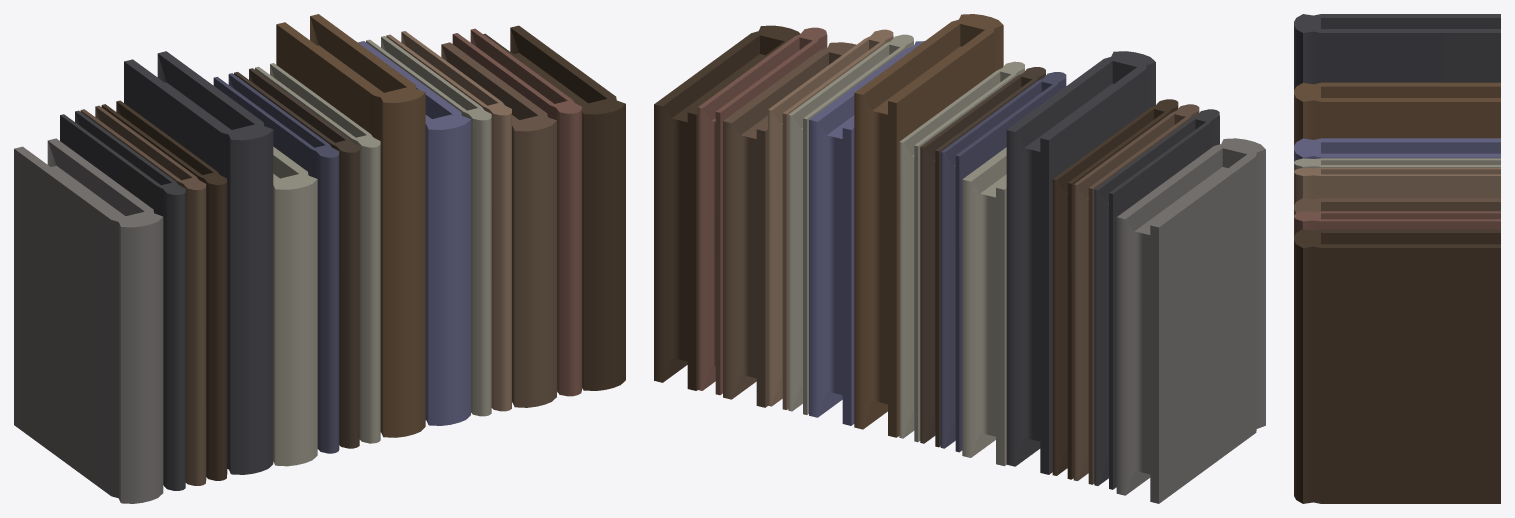
File: colored book3 second set bedroom.fbx
3 views of the same model, side by side, from view 1: azimuth 30°, elevation 25°; view 2: azimuth 150°, elevation 25°; view 3: azimuth 270°, elevation 25° (orthographic). The views are drawn at different scales.
Parts seen in each view (by area): view 1: pCube16, pCube7, pCube2, pCube12, pCube1, pCube10, pCube6, pCube14, pCube11, pCube5, pCube15, pCube3 (+4 smaller); view 2: pCube16, pCube7, pCube2, pCube12, pCube10, pCube1, pCube6, pCube14, pCube11, pCube5, pCube15, pCube3 (+4 smaller); view 3: pCube12, pCube7, pCube2, pCube9, pCube1, pCube11, pCube10, pCube8.
Boxes of the visible parts, box(x1,y1,x2,y2) form: pCube16: box(14, 138, 163, 503); pCube7: box(124, 51, 273, 474); pCube2: box(276, 14, 425, 437); pCube12: box(483, 25, 625, 390); pCube1: box(358, 41, 470, 425); pCube10: box(441, 42, 556, 407); pCube6: box(273, 146, 317, 466); pCube14: box(60, 110, 185, 490); pCube11: box(452, 28, 582, 396); pCube5: box(213, 73, 339, 453); pCube15: box(101, 100, 227, 480); pCube3: box(255, 63, 380, 443); pCube16: box(1116, 138, 1265, 503); pCube7: box(1006, 51, 1155, 474); pCube2: box(854, 14, 1003, 437); pCube12: box(654, 25, 800, 390); pCube10: box(723, 42, 856, 407); pCube1: box(809, 41, 924, 425); pCube6: box(962, 147, 1006, 466); pCube14: box(1094, 109, 1219, 489); pCube11: box(697, 27, 827, 395); pCube5: box(940, 72, 1066, 452); pCube15: box(1052, 99, 1178, 479); pCube3: box(899, 61, 1024, 442); pCube12: box(1294, 229, 1500, 503); pCube7: box(1294, 14, 1500, 89); pCube2: box(1294, 82, 1500, 145); pCube9: box(1294, 167, 1500, 205); pCube1: box(1294, 138, 1500, 161); pCube11: box(1294, 211, 1500, 236); pCube10: box(1294, 198, 1500, 214); pCube8: box(1294, 158, 1500, 170).
Size of the model in its own units: 0.2751 by 0.1753 by 0.1054.
